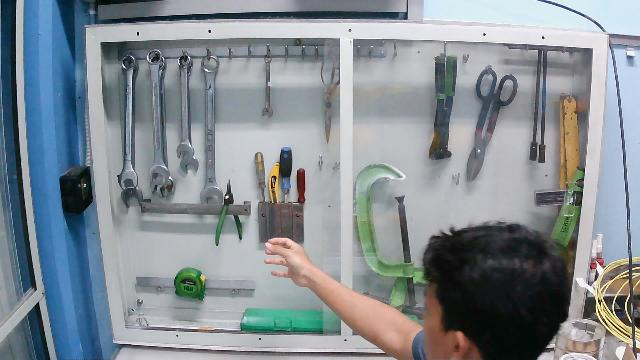tang_cucut_lancip_2: (215, 177, 245, 251)
